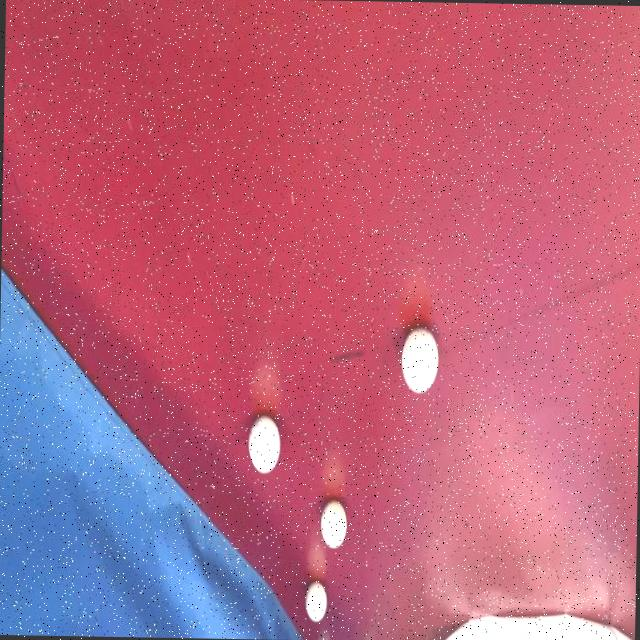ping-pong-ball: (398, 320, 442, 398), (246, 411, 284, 476), (316, 494, 351, 551), (302, 578, 330, 625)
